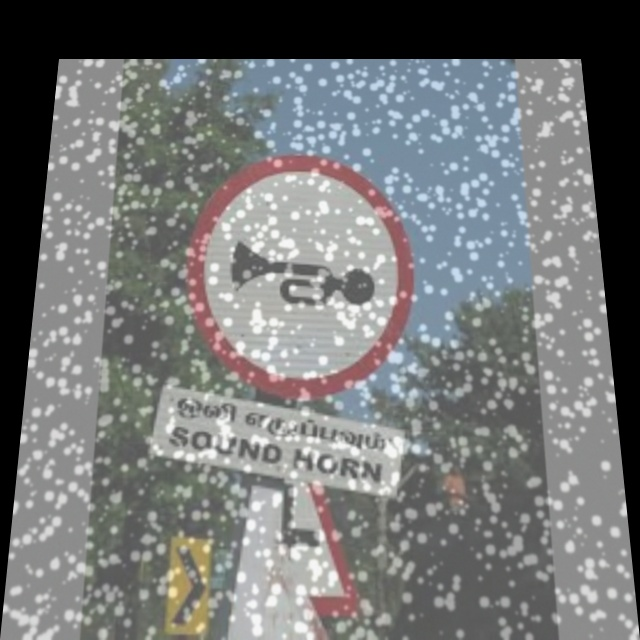Compulsory_Sound_Horn: (185, 155, 417, 389)
